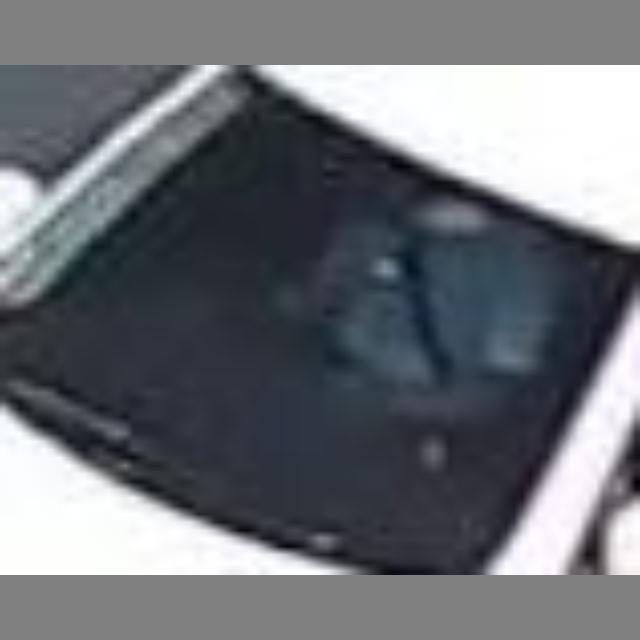pakai: (267, 170, 535, 454)
